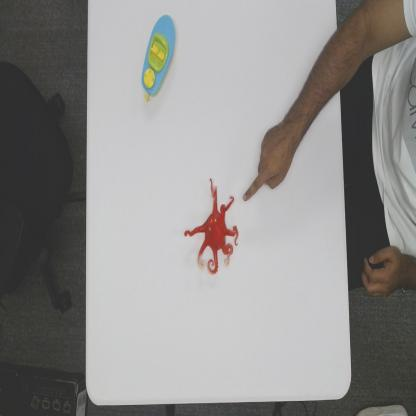Arm: (296, 0, 383, 139)
Boat: (139, 8, 179, 104)
Hand: (241, 119, 295, 198)
Octopus: (184, 176, 240, 280)
